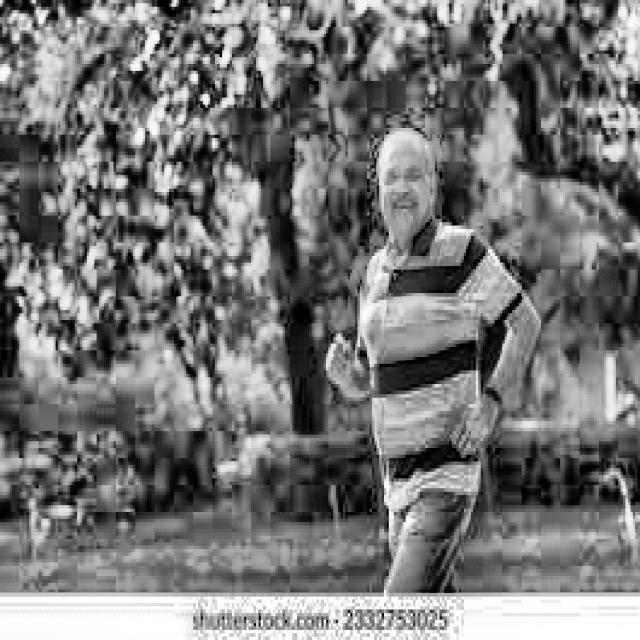Human: (317, 68, 550, 609)
